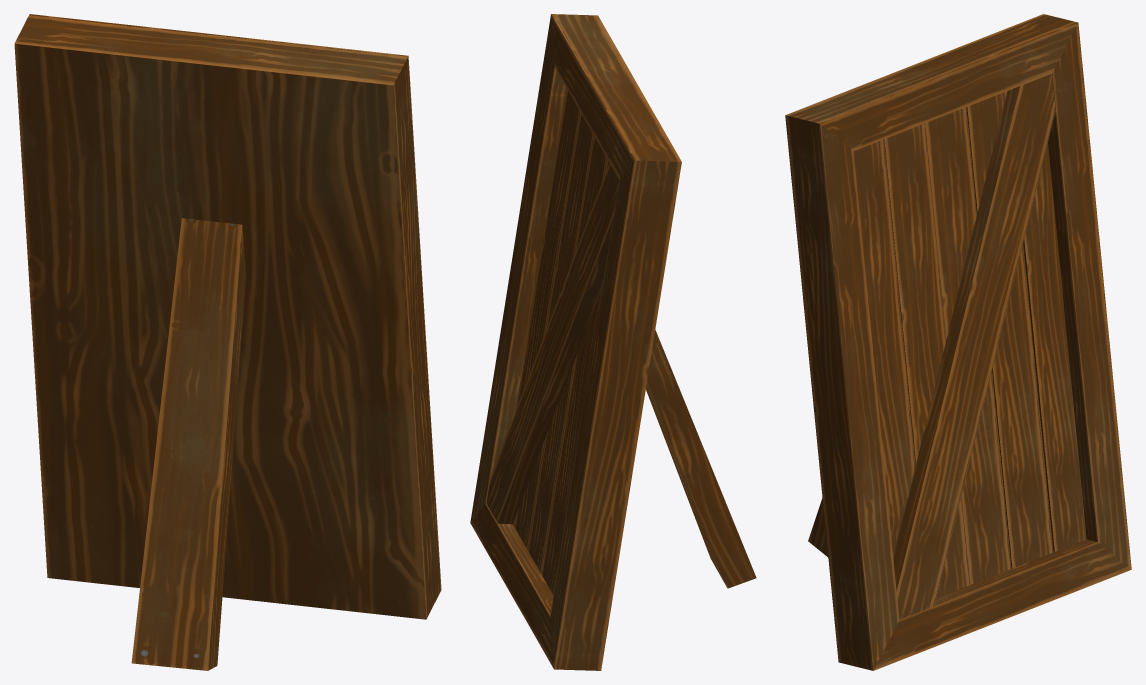
3 renders of one model, left to right at view 1: azimuth 30°, elevation 25°; view 2: azimuth 150°, elevation 25°; view 3: azimuth 270°, elevation 25°, orthographic. The views are drawn at different scales.
Visible parts, largest first — view 1: Cube.580; view 2: Cube.580; view 3: Cube.580.
Part boxes in pixels (x1=…): Cube.580: x1=14, y1=14, x2=441, y2=670; Cube.580: x1=470, y1=14, x2=756, y2=670; Cube.580: x1=785, y1=14, x2=1131, y2=670.
Size of the model in its own units: 205 by 342 by 203.
Materials: 1 (1 with a texture image).
